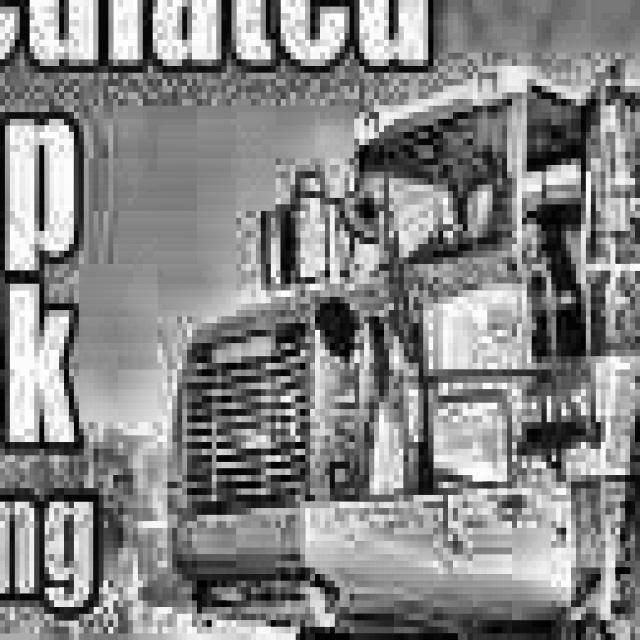dump_truck: (143, 33, 640, 640)
